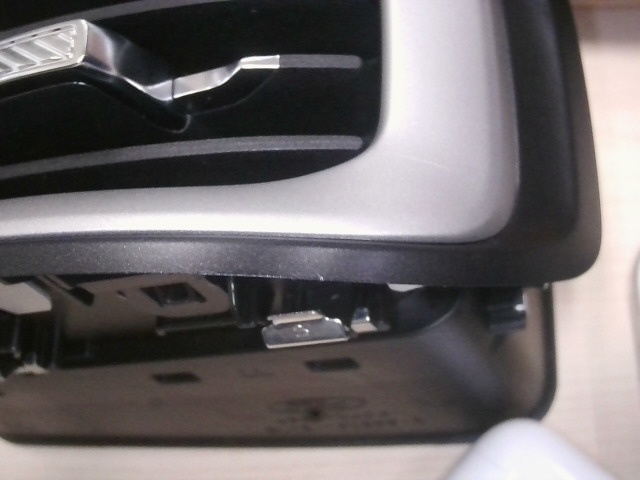NG: (392, 147, 460, 177), (290, 259, 335, 287)
